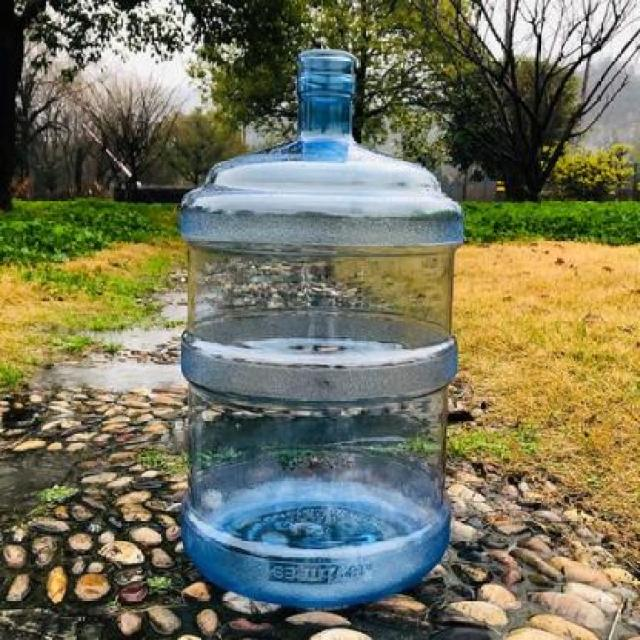coolerbottle: (173, 43, 464, 610)
